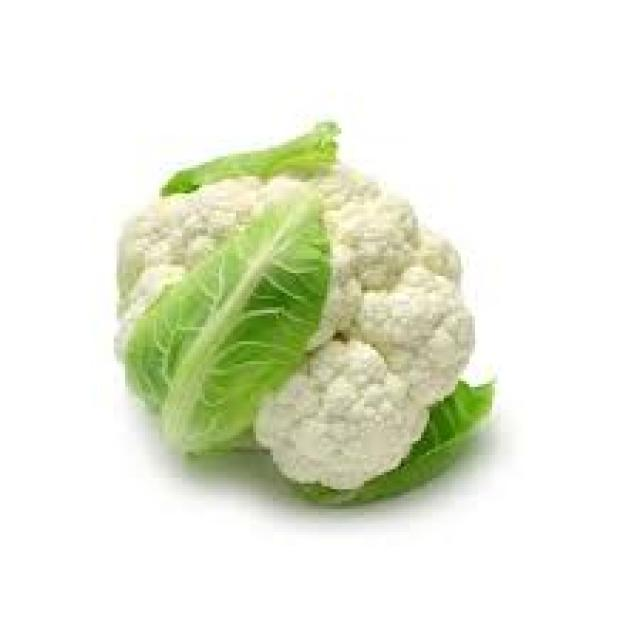organic waste: (111, 120, 492, 507)
